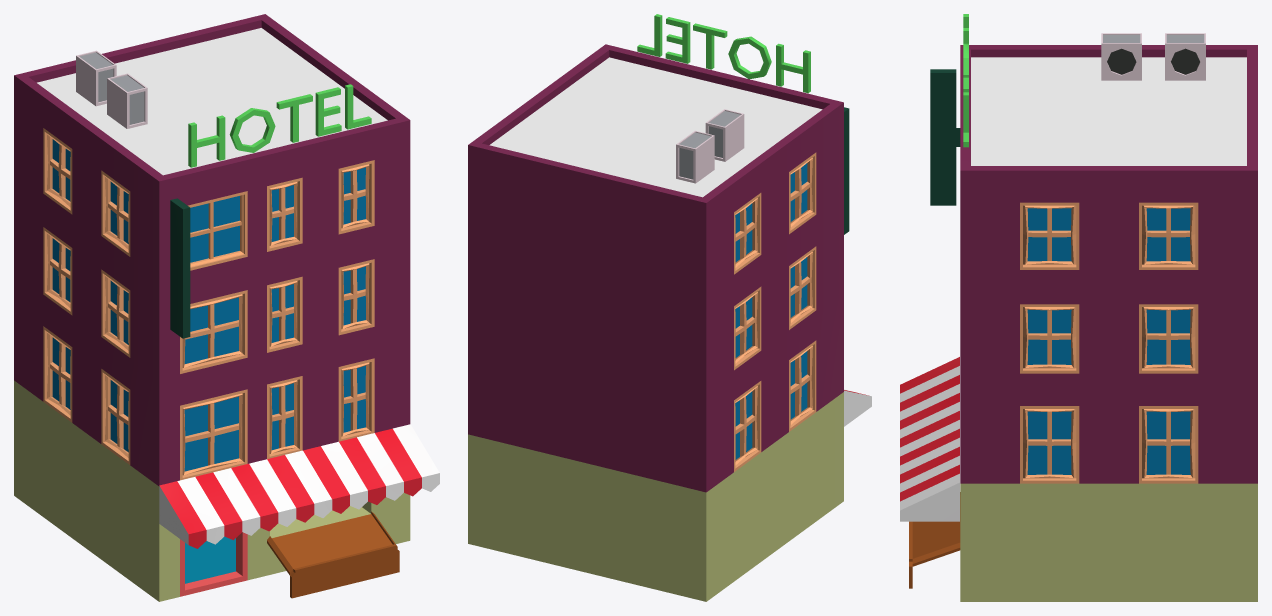
Rendered from hotel.glb.
3 views of the same model, side by side, from view 1: azimuth 30°, elevation 25°; view 2: azimuth 150°, elevation 25°; view 3: azimuth 270°, elevation 25° (orthographic). The views are drawn at different scales.
Visible parts, largest first — view 1: Cube_2, Text.001_5; view 2: Cube_2, Text.001_5; view 3: Cube_2, Text.001_5.
Boxes of the visible parts, x1,y1,x2,y2 form: Cube_2: (14, 14, 439, 601); Text.001_5: (188, 84, 371, 167); Cube_2: (468, 44, 871, 601); Text.001_5: (637, 14, 810, 93); Cube_2: (900, 33, 1257, 601); Text.001_5: (963, 14, 968, 147).
Bounding box in the file's own units: 2 × 3.59 × 2.41.
Materials: 2 (1 with a texture image).
